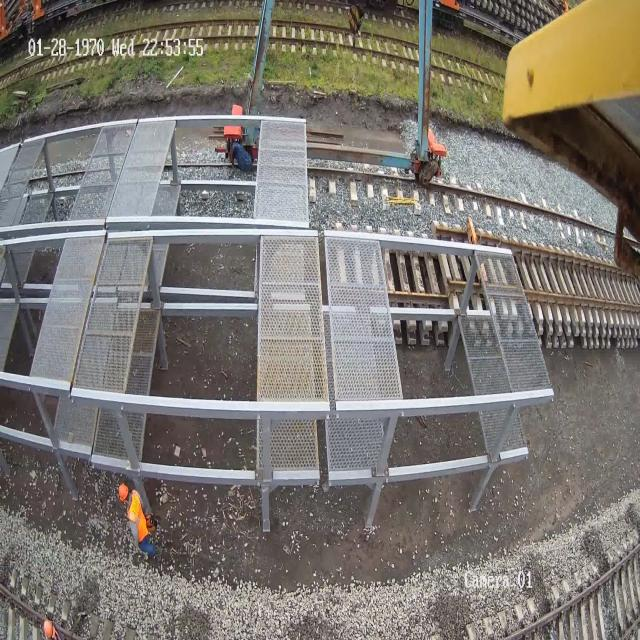Helmet: (44, 618, 54, 638), (118, 483, 129, 501)
Person: (118, 482, 157, 559)
